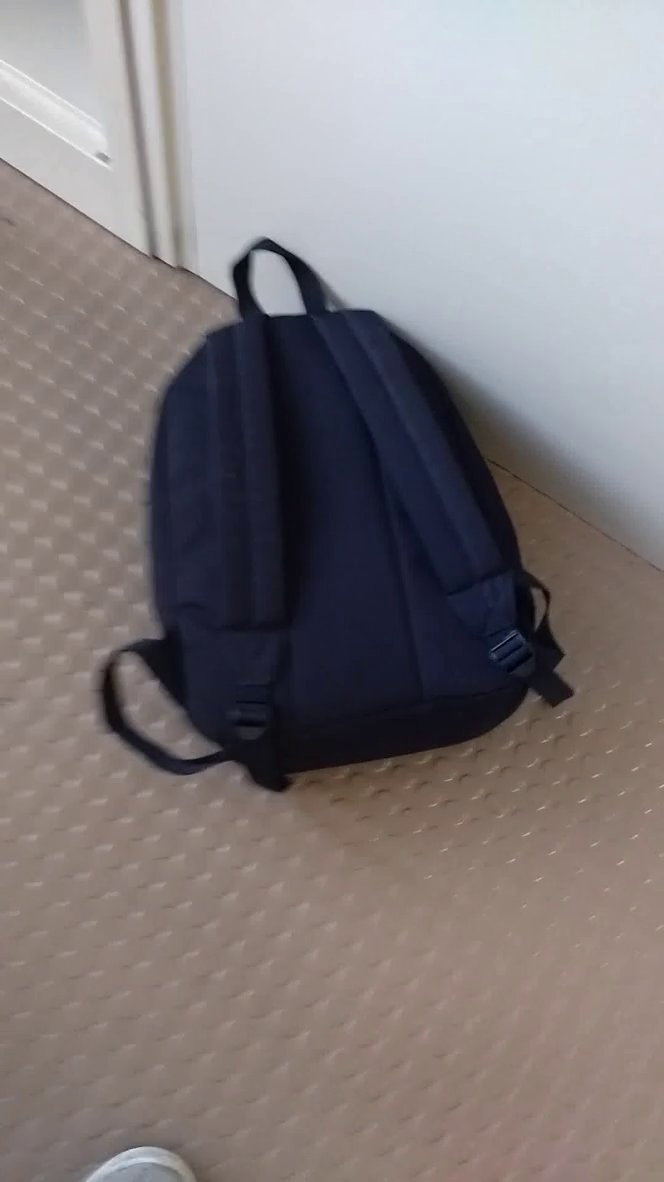bag: (84, 205, 597, 809)
